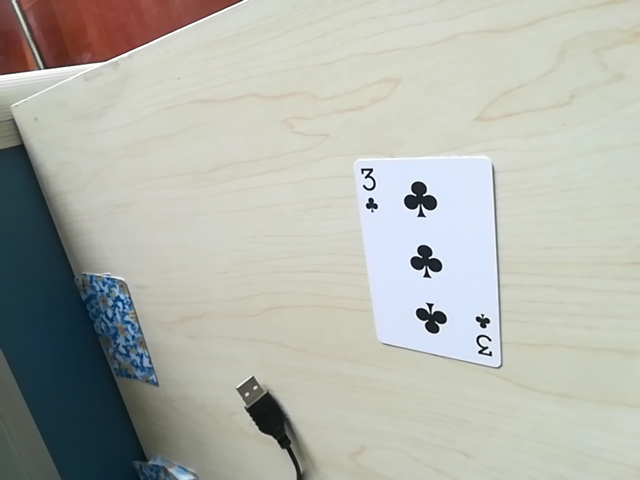mh 3: (354, 162, 393, 218), (463, 304, 493, 364)
